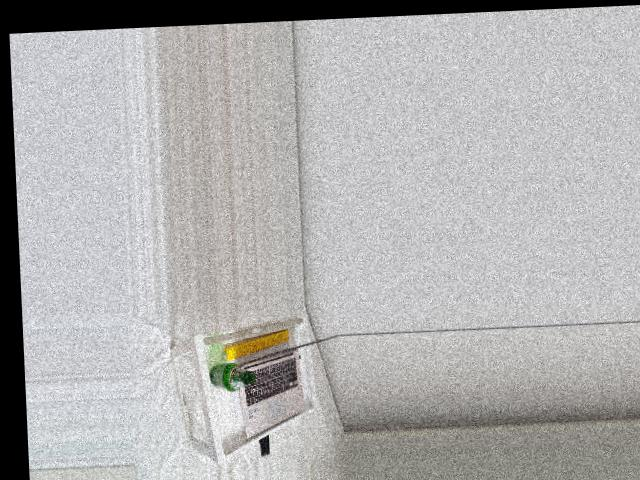beer: (209, 361, 255, 391)
